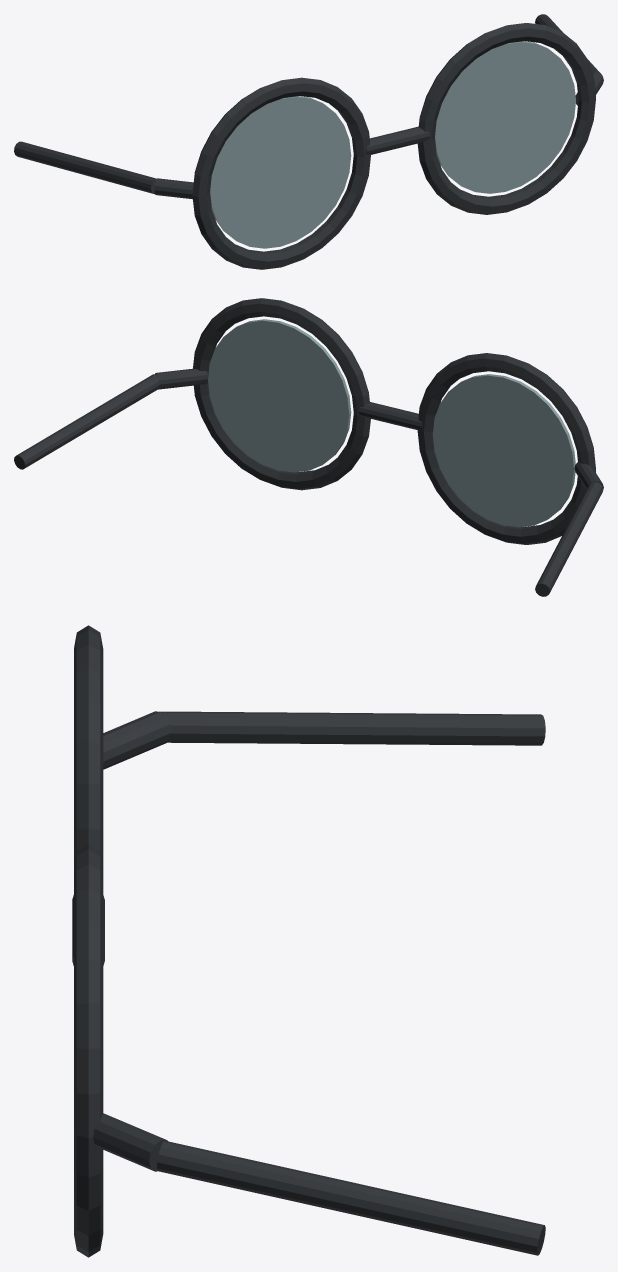
File: glasses-plain-v1-zr7-AV-Z.glb
3 views of the same model, one above another, from view 1: azimuth 30°, elevation 25°; view 2: azimuth 150°, elevation 25°; view 3: azimuth 270°, elevation 25° (orthographic). The views are drawn at different scales.
Parts seen in each view (by area): view 1: Lens pane 1, Lens pane 2, Lens rim 1, Lens rim 2, Temple arm, Nose bridge, Temple hinge; view 2: Lens pane 2, Lens pane 1, Lens rim 2, Lens rim 1, Temple arm.001, Temple arm, Nose bridge, Temple hinge.001, Temple hinge; view 3: Temple arm.001, Temple arm, Lens rim 2, Lens rim 1, Temple hinge, Temple hinge.001.
Boxes of the visible parts, left/top/right/bottom form: Lens pane 1: left=210, top=96, right=351, bottom=248; Lens pane 2: left=435, top=41, right=575, bottom=193; Lens rim 1: left=192, top=77, right=370, bottom=269; Lens rim 2: left=417, top=23, right=595, bottom=214; Temple arm: left=14, top=141, right=156, bottom=194; Nose bridge: left=366, top=126, right=429, bottom=154; Temple hinge: left=154, top=178, right=193, bottom=199; Lens pane 2: left=208, top=319, right=351, bottom=472; Lens pane 1: left=433, top=374, right=575, bottom=527; Lens rim 2: left=193, top=298, right=370, bottom=490; Lens rim 1: left=417, top=353, right=595, bottom=544; Temple arm.001: left=14, top=374, right=159, bottom=469; Temple arm: left=535, top=482, right=603, bottom=596; Nose bridge: left=359, top=402, right=422, bottom=429; Temple hinge.001: left=155, top=368, right=207, bottom=389; Temple hinge: left=574, top=462, right=603, bottom=488; Temple arm.001: left=156, top=1141, right=545, bottom=1255; Temple arm: left=161, top=711, right=545, bottom=745; Lens rim 2: left=74, top=845, right=103, bottom=1257; Lens rim 1: left=74, top=625, right=103, bottom=867; Temple hinge: left=103, top=711, right=171, bottom=769; Temple hinge.001: left=93, top=1113, right=167, bottom=1171.
Size of the model in its own units: 2.05 by 0.684 by 0.7841.
